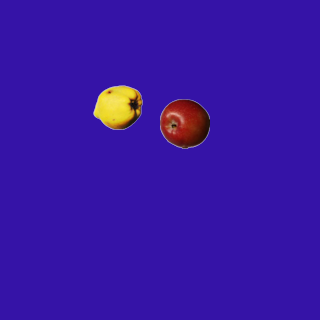Apple Braeburn: (159, 98, 209, 148)
Quince: (92, 82, 142, 132)
